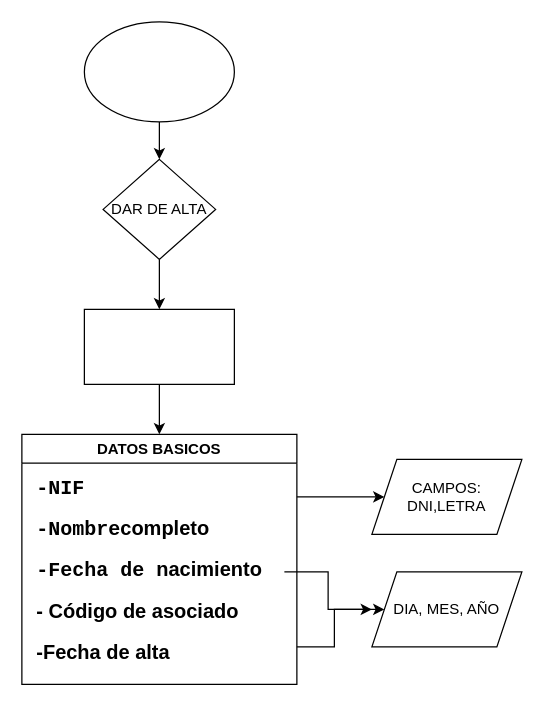
The diagram is 544 pixels wide and 706 high, and some of its shapes have lost their labels. Each missing label, with the centre of its shape:
"ASOCIACIÓN" belongs at point 158,71.
"PERSONA" belongs at point 158,346.
